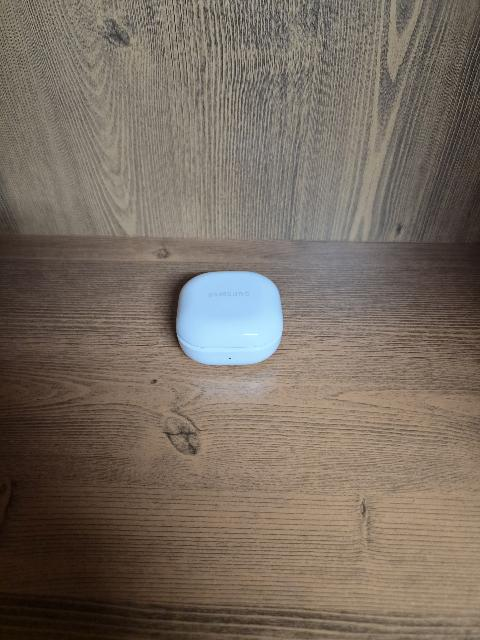earphone_case: (176, 270, 284, 365)
